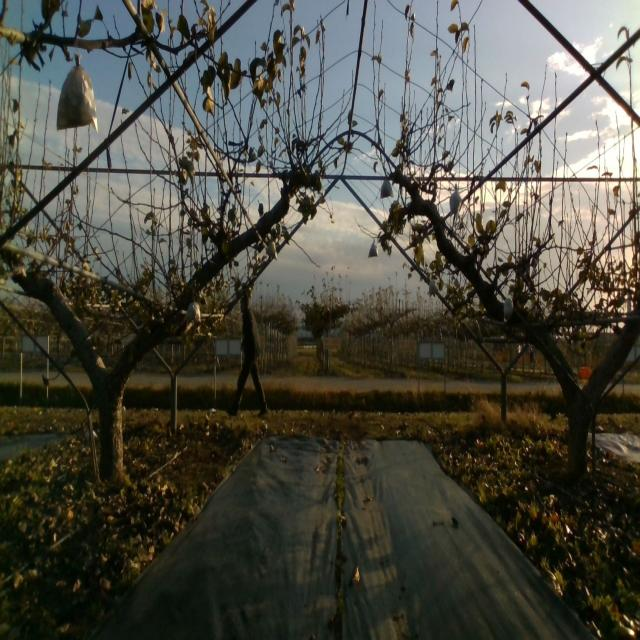pearbags: (224, 292, 270, 418), (56, 54, 98, 131), (186, 301, 202, 325), (448, 188, 462, 215), (502, 296, 513, 323), (380, 179, 393, 199), (267, 241, 279, 260), (368, 238, 378, 258), (427, 278, 438, 296)
